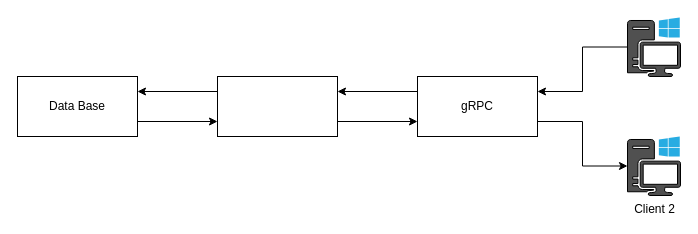
Image size: 698x234. Some labels were removed from this diagram. The centre of each missing label's shape, as x and y in pixels:
"Business logic" goes at point 277,106.
"Client 1" goes at point 653,46.
